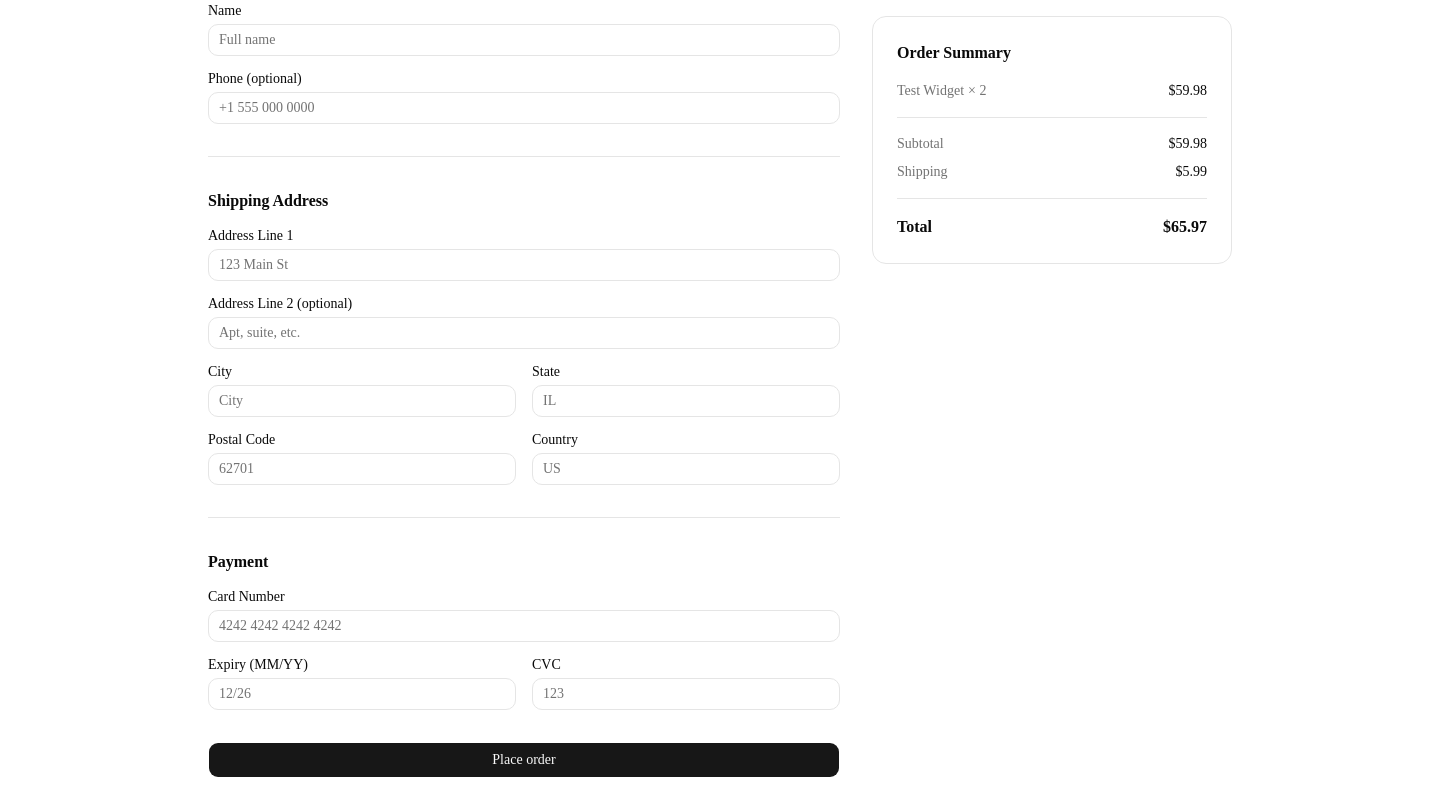
Test: CheckoutClient › shows validation errors on empty submit
The image size is (1440, 802).
(page scrolled)
Click the button "Place order". click: (524, 760)
box: left=208, top=742, right=840, bottom=778
(page scrolled)
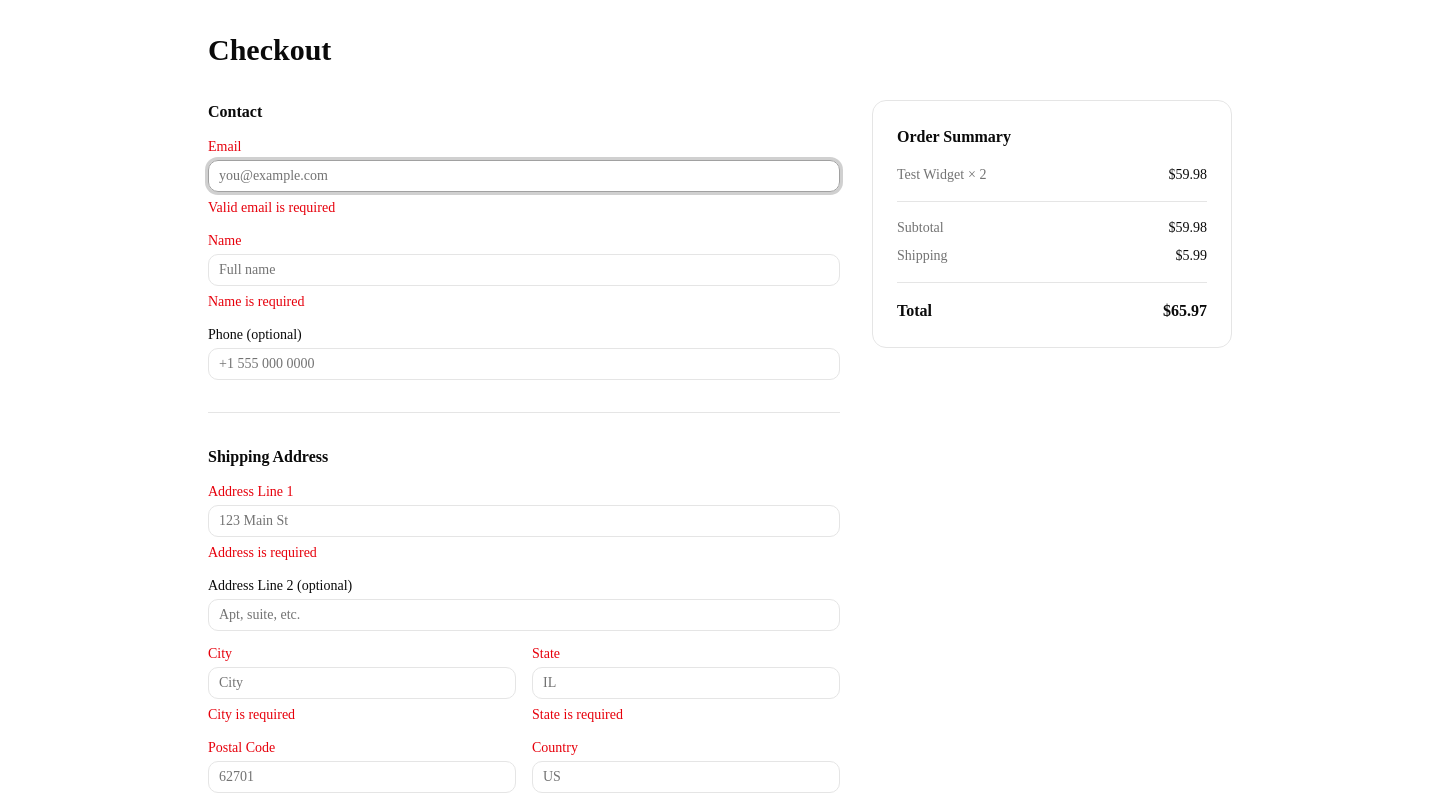
Check: the text "Valid email is required" is shown, box left=208, top=200, right=335, bottom=215
